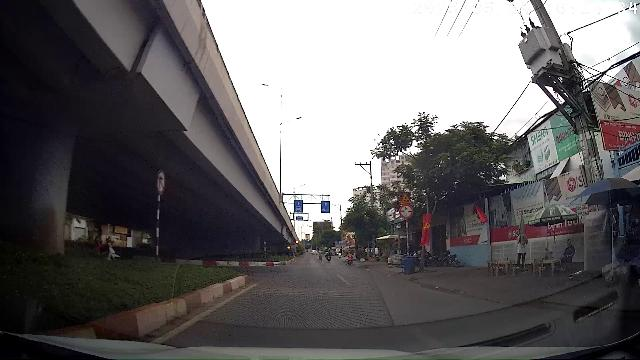123b-cam-re-phai: (157, 169, 166, 195)
